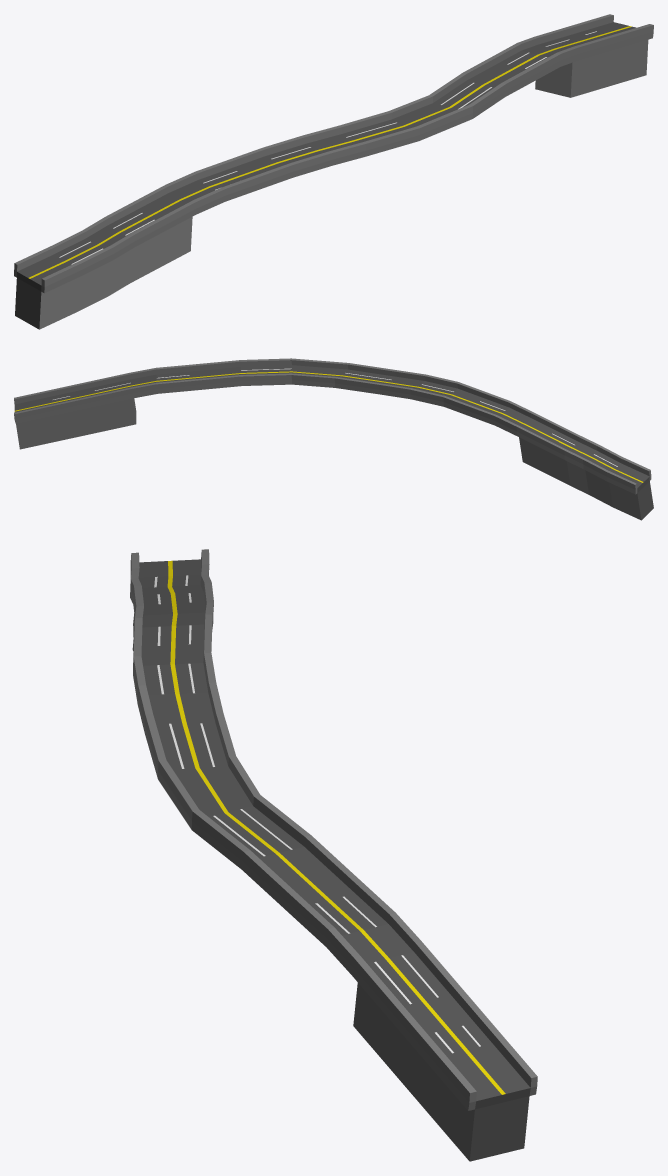
Rendered from Map 2 Bridge.fbx.
3 views of the same model, one above another, from view 1: azimuth 30°, elevation 25°; view 2: azimuth 150°, elevation 25°; view 3: azimuth 270°, elevation 25° (orthographic). The views are drawn at different scales.
Parts seen in each view (by area): view 1: Cube; view 2: Cube; view 3: Cube.
Boxes of the visible parts, box(x1,y1,x2,y2) form: Cube: box(14, 14, 653, 329); Cube: box(14, 358, 653, 520); Cube: box(130, 549, 537, 1161).
Bounding box in the file's own units: 3297 × 451 × 1041.
